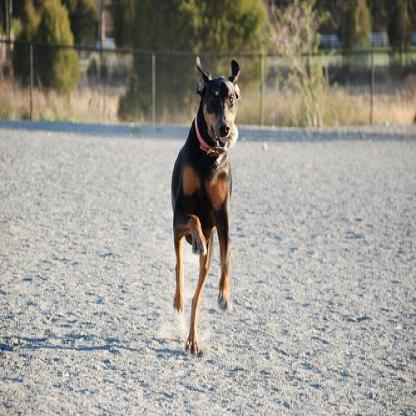Doberman: (166, 50, 250, 360)
